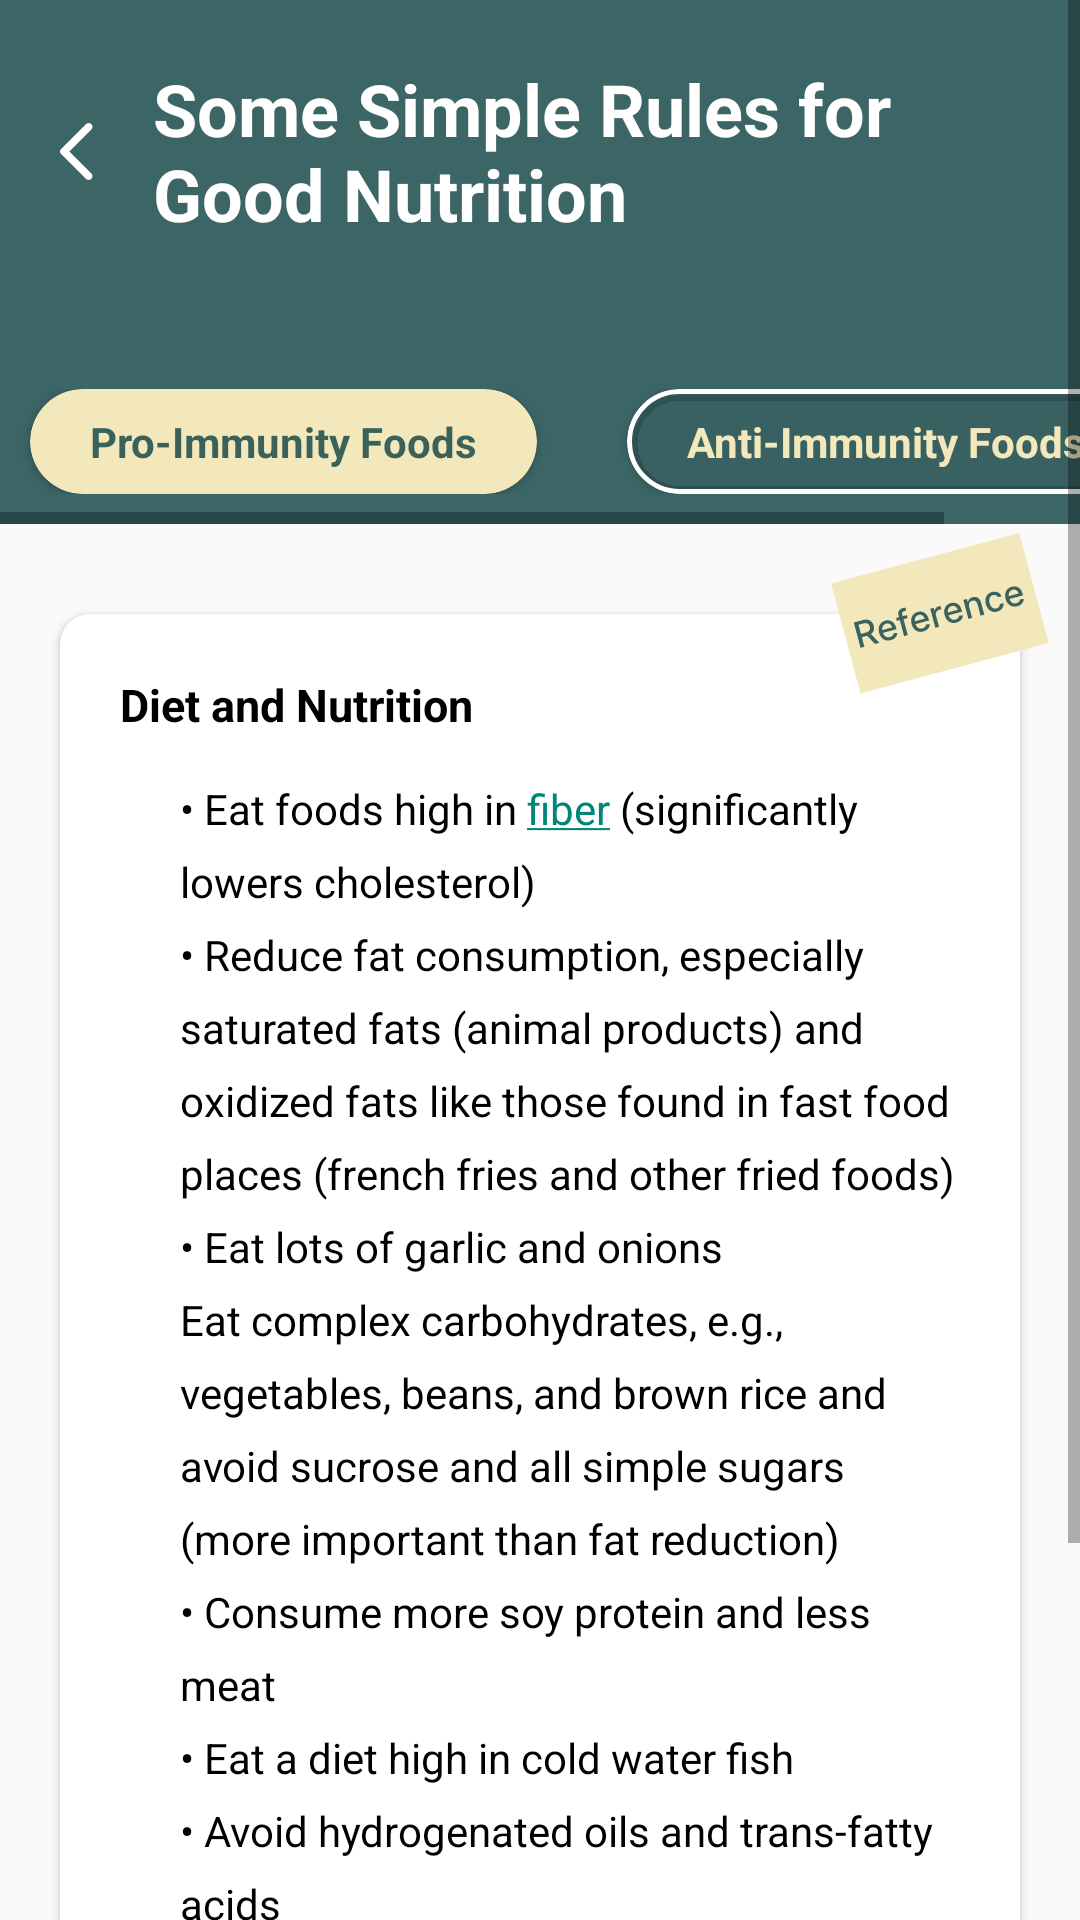

Where icons sit on this 1080px×1920px app screen, as (x1, y1, x2, y2):
back: (60, 123, 93, 180)
